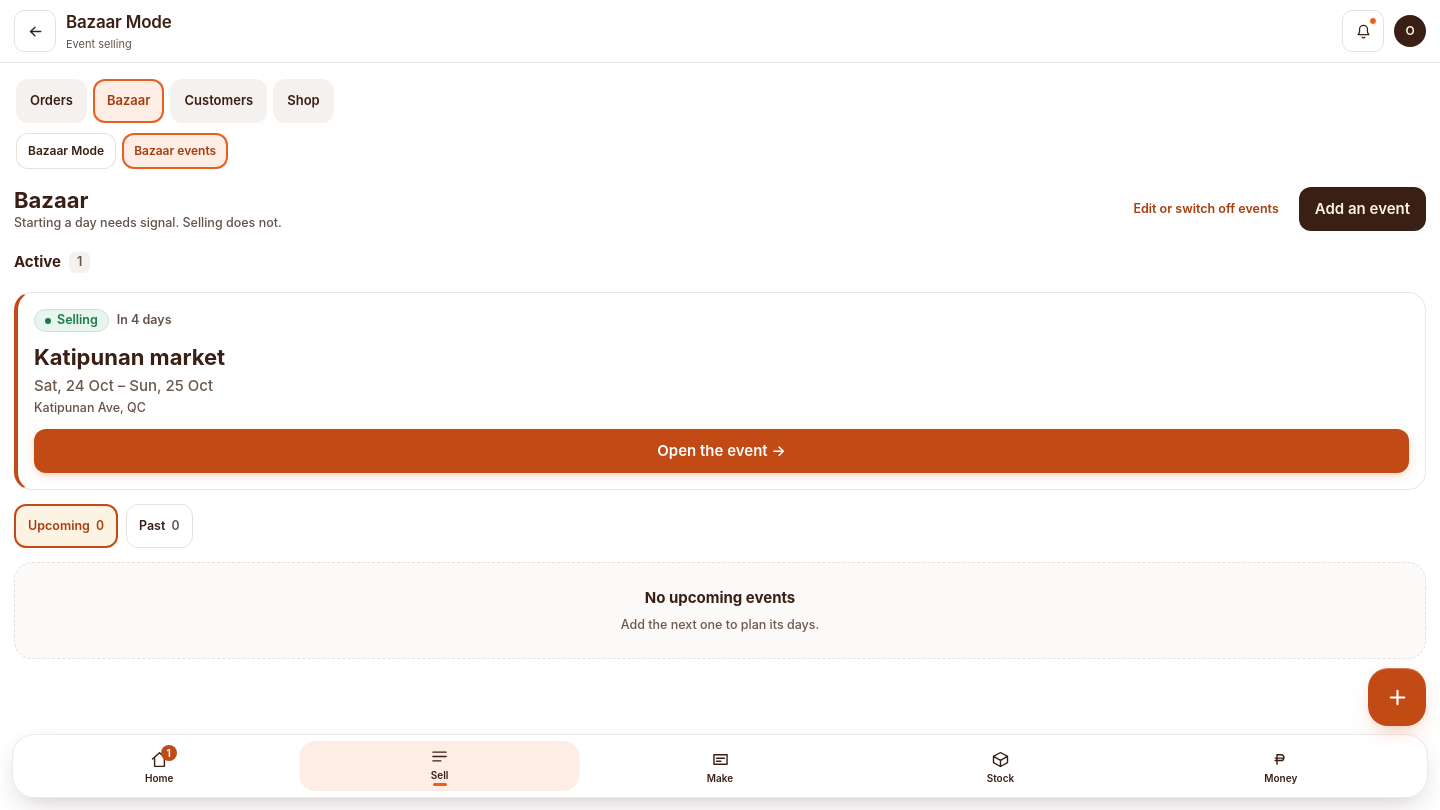
Scenario: S2: with no event on the phone › a day cannot start while another day of the booking is still open
The width and height of the screenshot is (1440, 810).
Click the button named "Katipunan market" at (722, 451), box [34,429,1409,473]
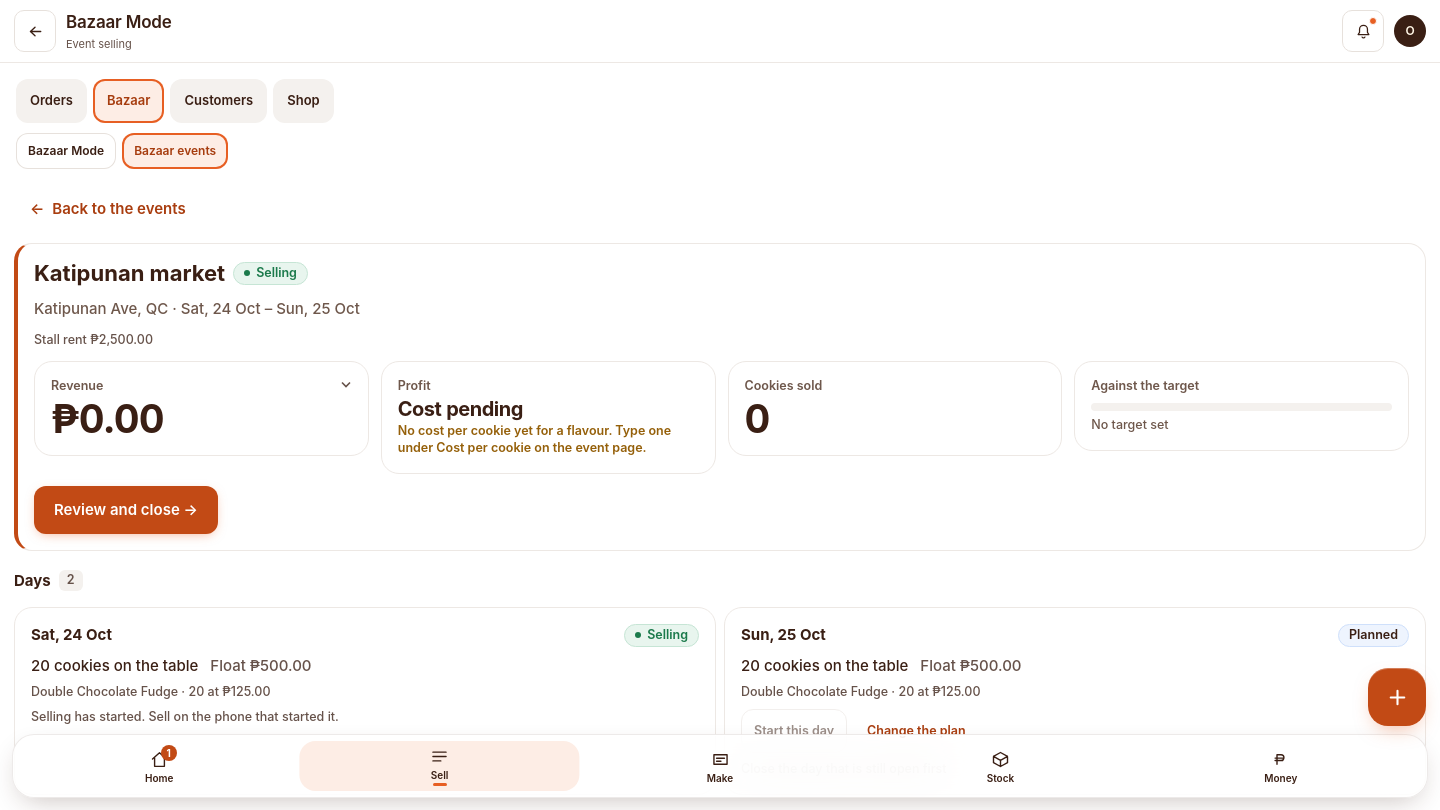
Expected: the number of buttons "Start this day" is 1, [741,709,847,753]
Expected: the text "Selling has started. Sell on the phone that started it." is shown, [31,709,339,724]
